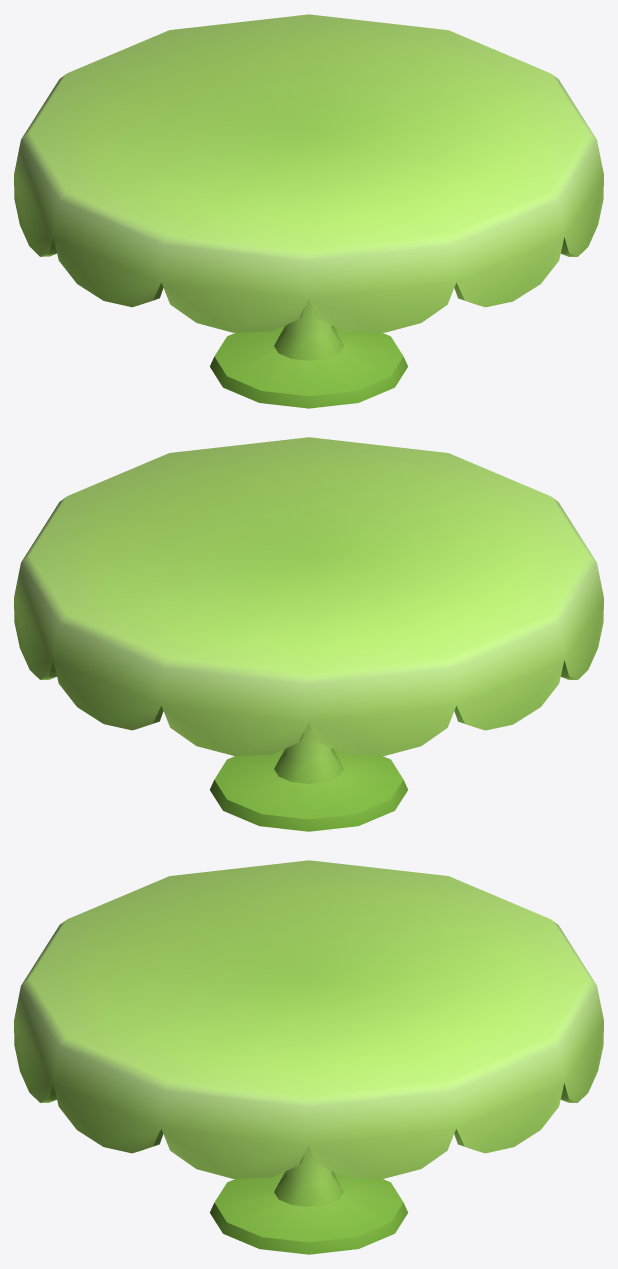
Rendered from m_CakeStand04.fbx.
3 views of the same model, one above another, from view 1: azimuth 30°, elevation 25°; view 2: azimuth 150°, elevation 25°; view 3: azimuth 270°, elevation 25° (orthographic).
Parts seen in each view (by area): view 1: m_CakeStand04; view 2: m_CakeStand04; view 3: m_CakeStand04.
Boxes of the visible parts, left/top/right/bottom form: m_CakeStand04: left=14, top=14, right=603, bottom=408; m_CakeStand04: left=14, top=437, right=603, bottom=831; m_CakeStand04: left=14, top=860, right=603, bottom=1254.
Bounding box in the file's own units: 34.21 × 15 × 34.21.
